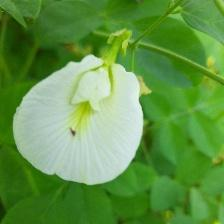shankupushpam: (12, 52, 147, 189)
